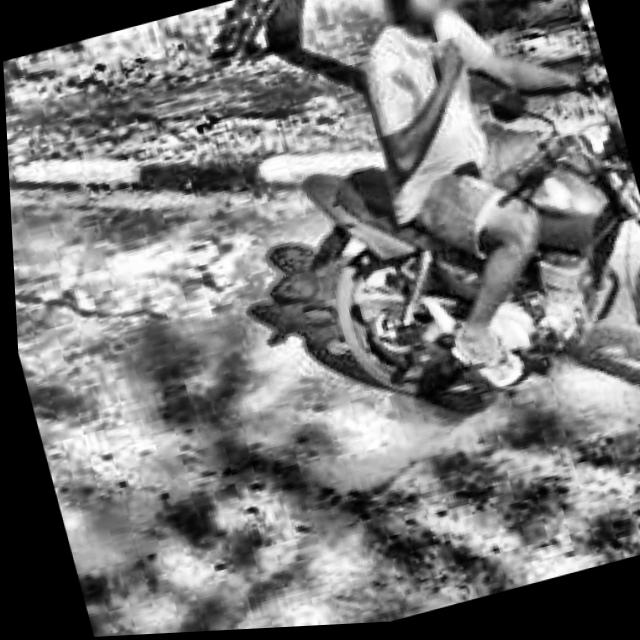motorcycle: (269, 56, 640, 493)
